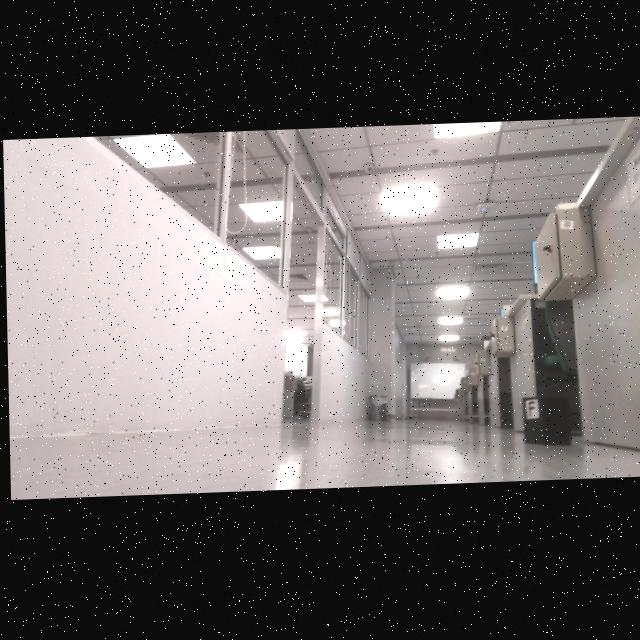F: (527, 405, 533, 421)
